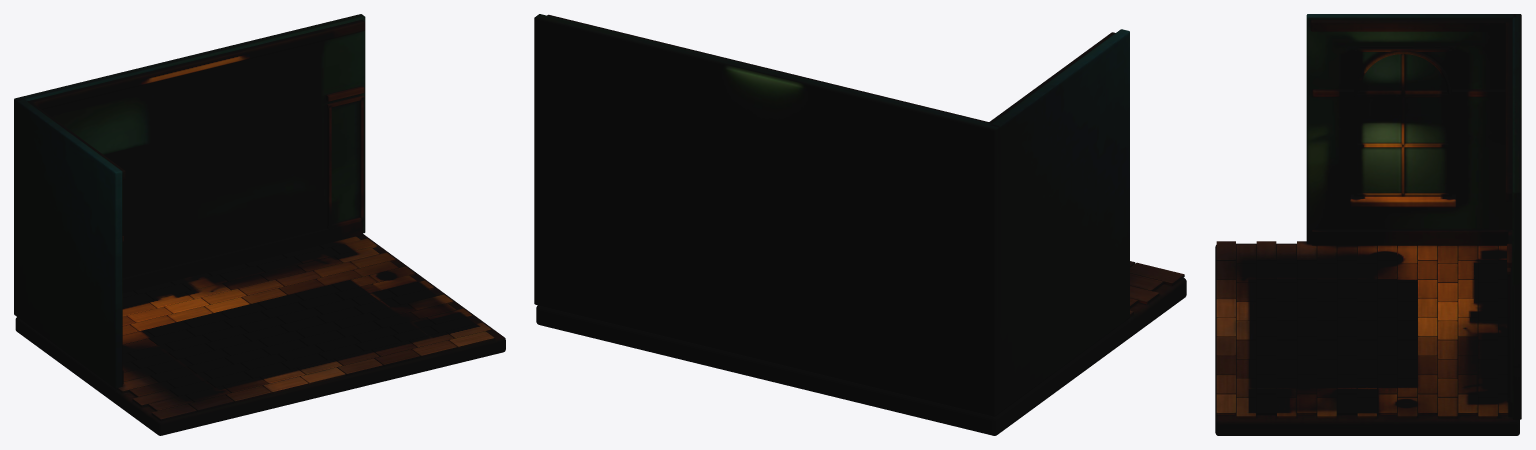
File: shell.glb
3 views of the same model, side by side, from view 1: azimuth 30°, elevation 25°; view 2: azimuth 150°, elevation 25°; view 3: azimuth 270°, elevation 25° (orthographic). The views are drawn at different scales.
Visible parts, largest first — view 1: shell; view 2: shell; view 3: shell.
Boxes of the visible parts, x1=… form: shell: x1=14, y1=14, x2=505, y2=435; shell: x1=534, y1=14, x2=1186, y2=435; shell: x1=1215, y1=14, x2=1521, y2=435.
Size of the model in its own units: 4.3 by 2.75 by 3.12.
1 material, 1 textured.
